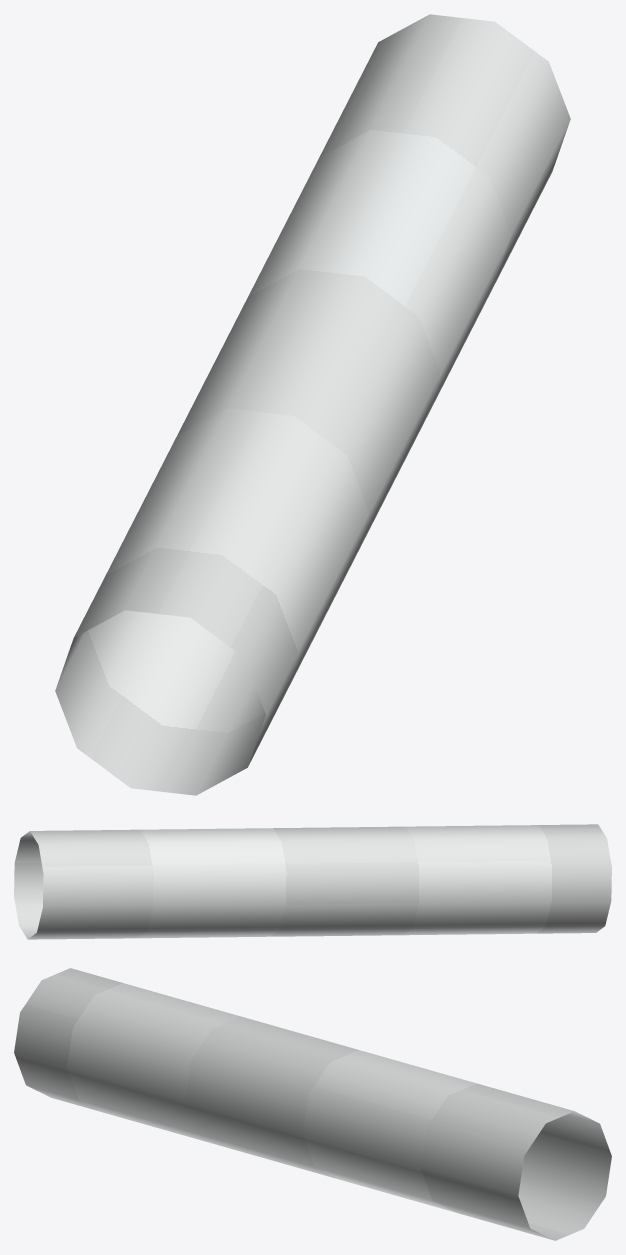
File: trusssignalarm_diagonal8_c4.obj
3 views of the same model, one above another, from view 1: azimuth 30°, elevation 25°; view 2: azimuth 150°, elevation 25°; view 3: azimuth 270°, elevation 25° (orthographic). The views are drawn at different scales.
Visible parts, largest first — view 1: trusssignalarm_diagonal8_c4; view 2: trusssignalarm_diagonal8_c4; view 3: trusssignalarm_diagonal8_c4.
Boxes of the visible parts, left/top/right/bottom form: trusssignalarm_diagonal8_c4: left=55, top=14, right=570, bottom=795; trusssignalarm_diagonal8_c4: left=14, top=824, right=611, bottom=939; trusssignalarm_diagonal8_c4: left=14, top=968, right=611, bottom=1240.
Bounding box in the file's own units: 1.19 × 0.4013 × 1.19.
